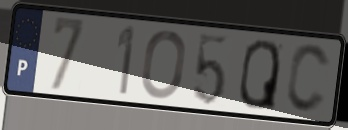1: (115, 23, 137, 99)
5: (191, 31, 230, 107)
7: (48, 14, 89, 94)
C: (283, 41, 333, 117)
O: (139, 28, 189, 101)
Q: (237, 38, 282, 113)
